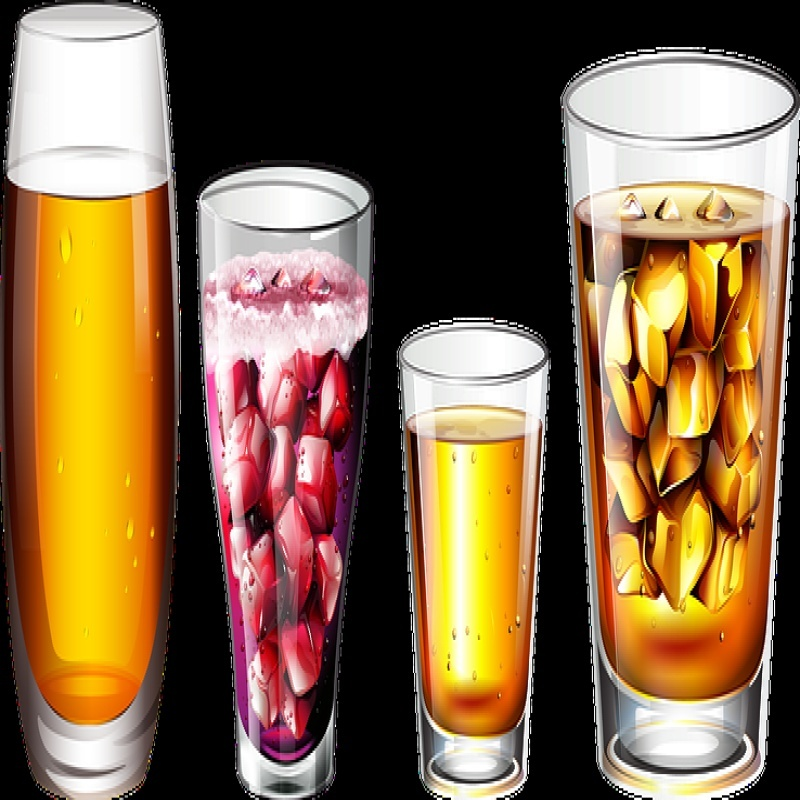whiskey: (555, 50, 772, 800), (392, 313, 537, 800)
